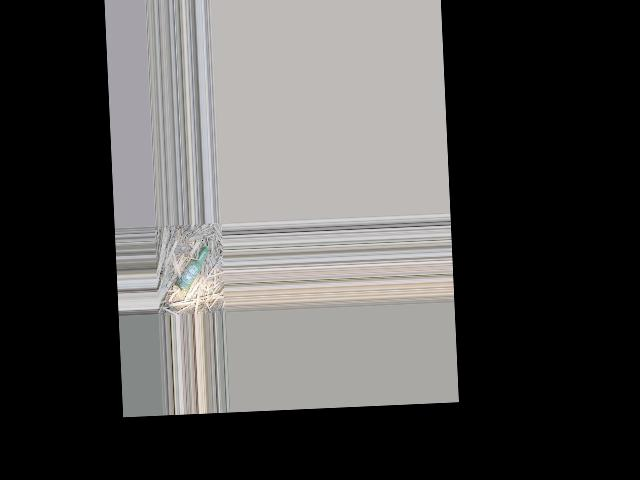beer: (173, 245, 210, 291)
